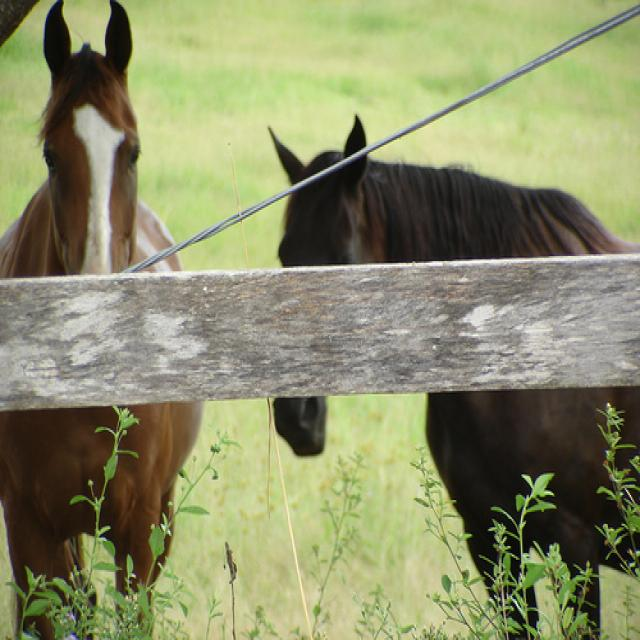horse: (264, 112, 638, 639), (1, 1, 209, 639)
